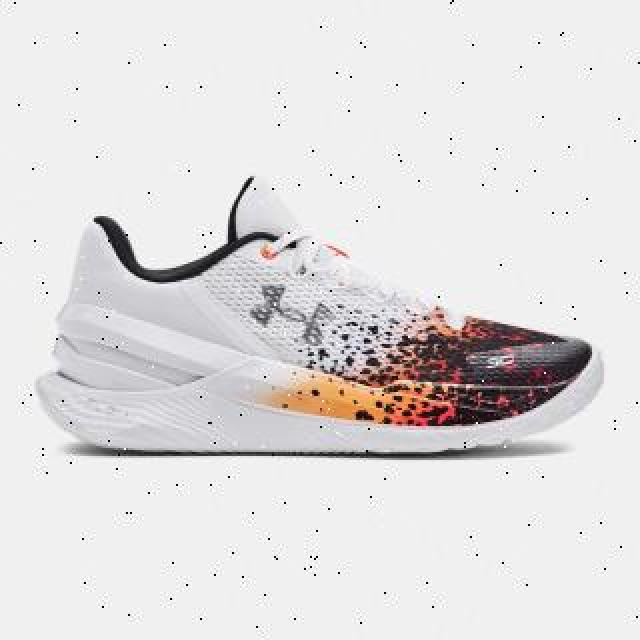shoe: (35, 175, 603, 453)
